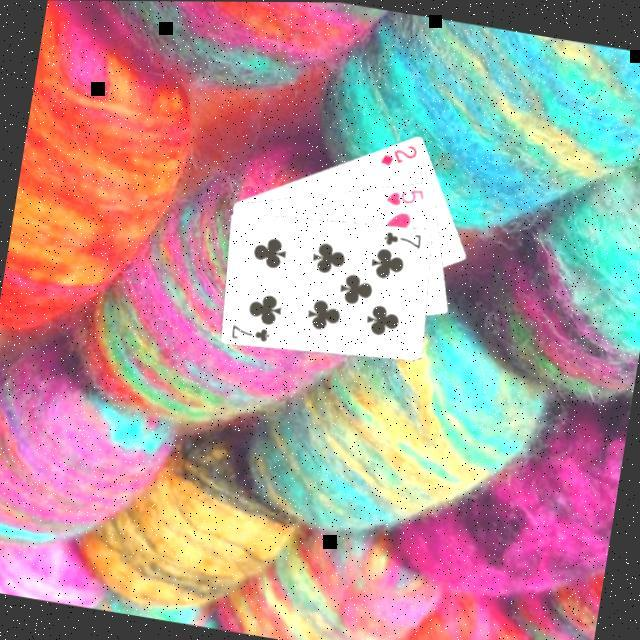2D: (378, 137, 422, 173)
5H: (383, 181, 430, 213)
7C: (381, 226, 427, 254), (227, 320, 274, 347)
